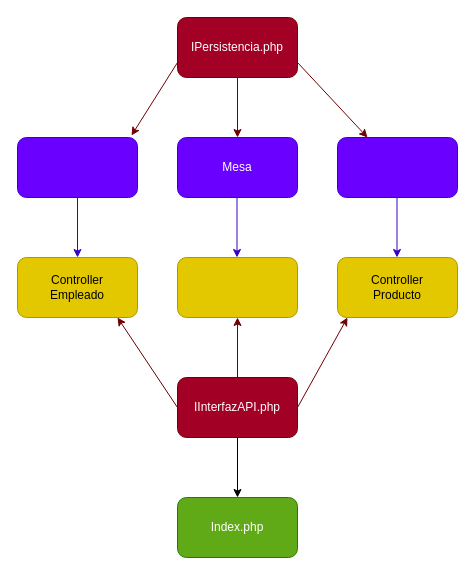
Some shapes in this 475 by 575 pixel diagram are drawn without their labels. Each missing label, with the box of its shape:
Controller Mesa: (176, 256, 298, 318)
Empleado: (16, 136, 138, 198)
Producto: (336, 136, 458, 198)
